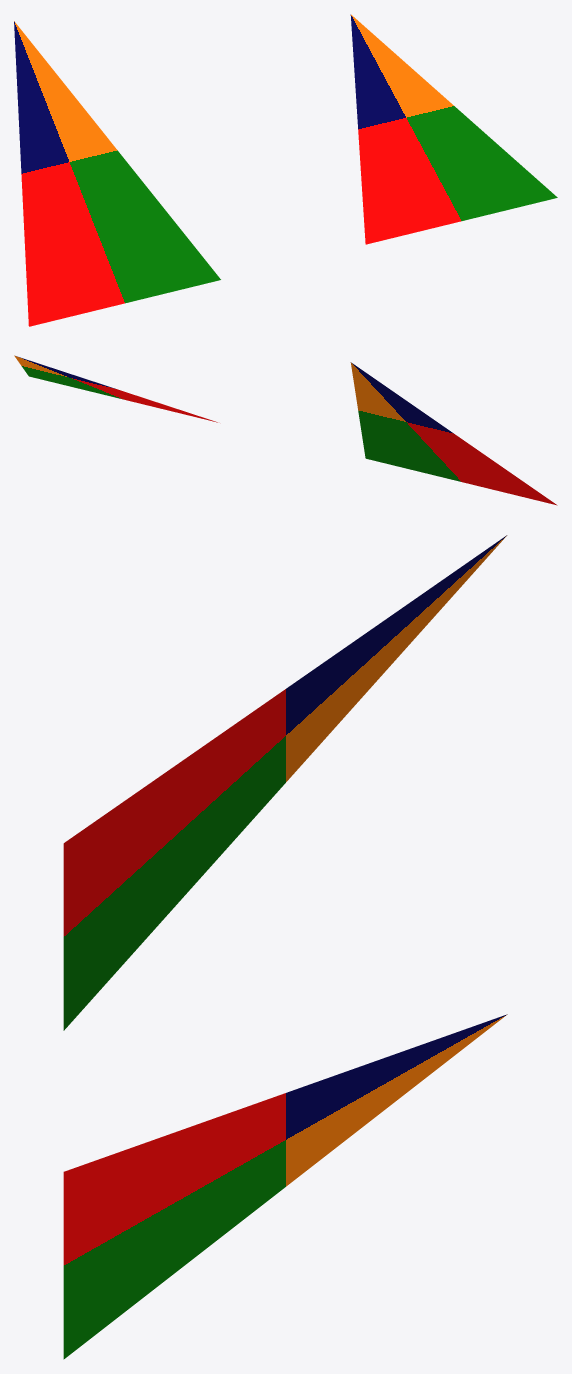
The picture shows the model from 3 angles, top to bottom: view 1: azimuth 30°, elevation 25°; view 2: azimuth 150°, elevation 25°; view 3: azimuth 270°, elevation 25°; orthographic projection. The views are drawn at different scales.
Size of the model in its own units: 110 by 40 by 40.
1 material, 1 textured.
